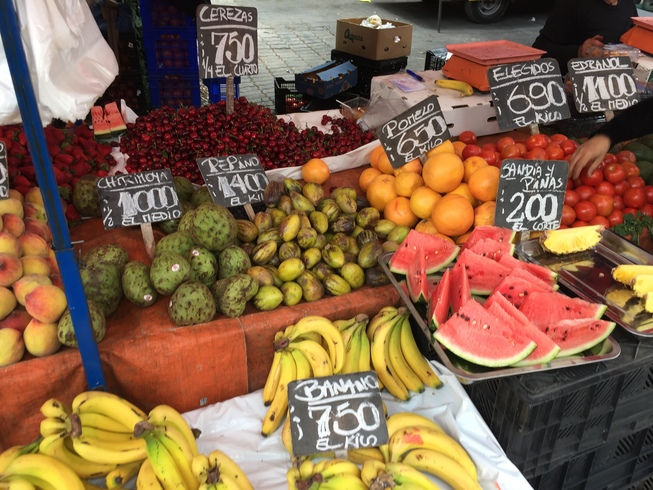precio: (281, 368, 397, 461), (88, 161, 190, 237), (492, 155, 577, 246), (484, 56, 577, 138), (374, 93, 457, 181), (192, 2, 265, 81), (569, 53, 645, 121), (195, 150, 270, 210)
